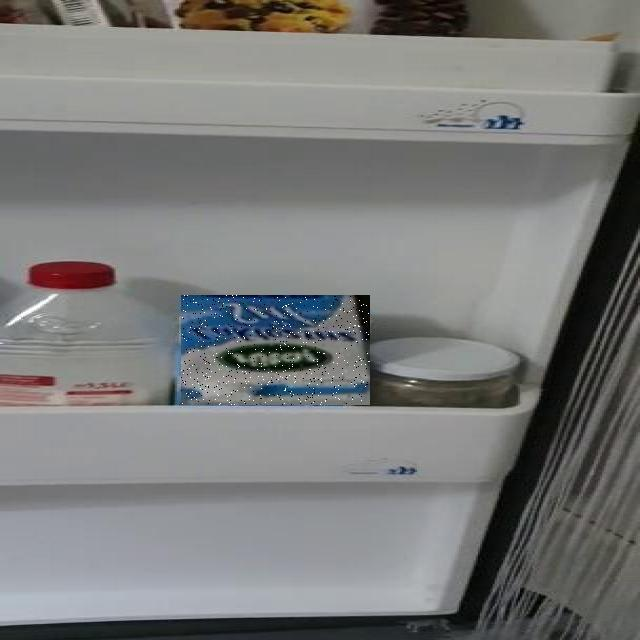milk: (0, 202, 366, 608)
